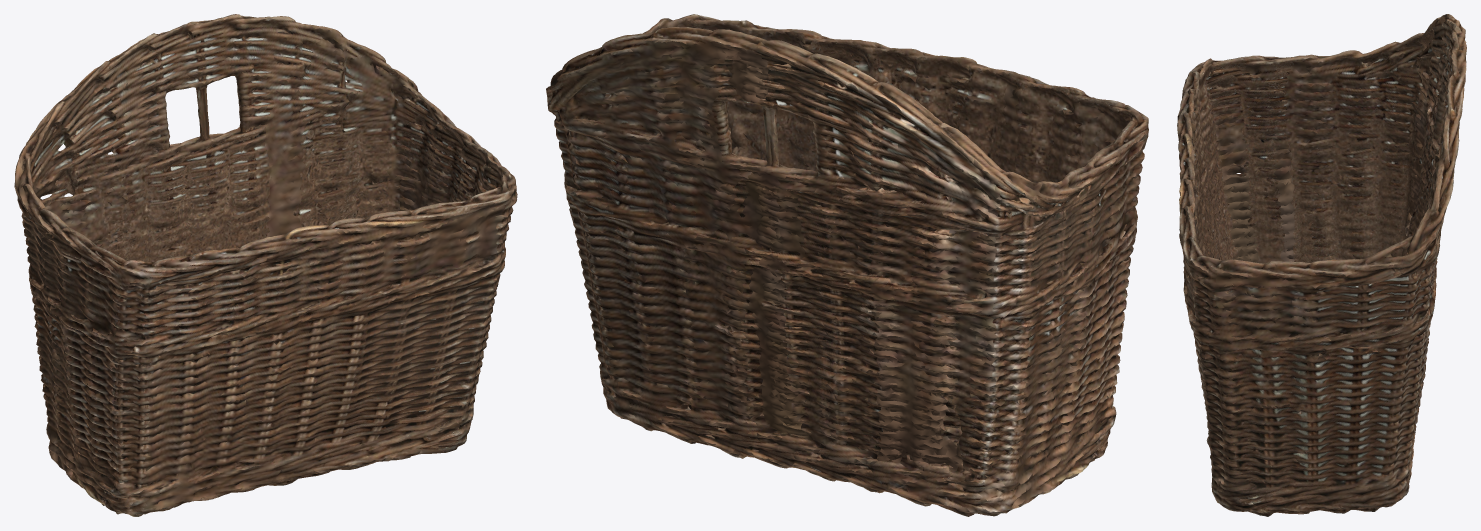
The model's file is obj_basket_pqpm1000_418bc9.glb.
The picture shows the model from 3 angles, left to right: view 1: azimuth 30°, elevation 25°; view 2: azimuth 150°, elevation 25°; view 3: azimuth 270°, elevation 25°; orthographic projection. The views are drawn at different scales.
Visible parts, largest first — view 1: obj_basket_pqpm1000_418bc9; view 2: obj_basket_pqpm1000_418bc9; view 3: obj_basket_pqpm1000_418bc9.
Boxes of the visible parts, x1,y1,x2,y2 form: obj_basket_pqpm1000_418bc9: [14, 14, 517, 516]; obj_basket_pqpm1000_418bc9: [546, 14, 1148, 516]; obj_basket_pqpm1000_418bc9: [1177, 14, 1466, 516].
Size of the model in its own units: 0.6873 by 0.6 by 0.4029.
1 material, 1 textured.
